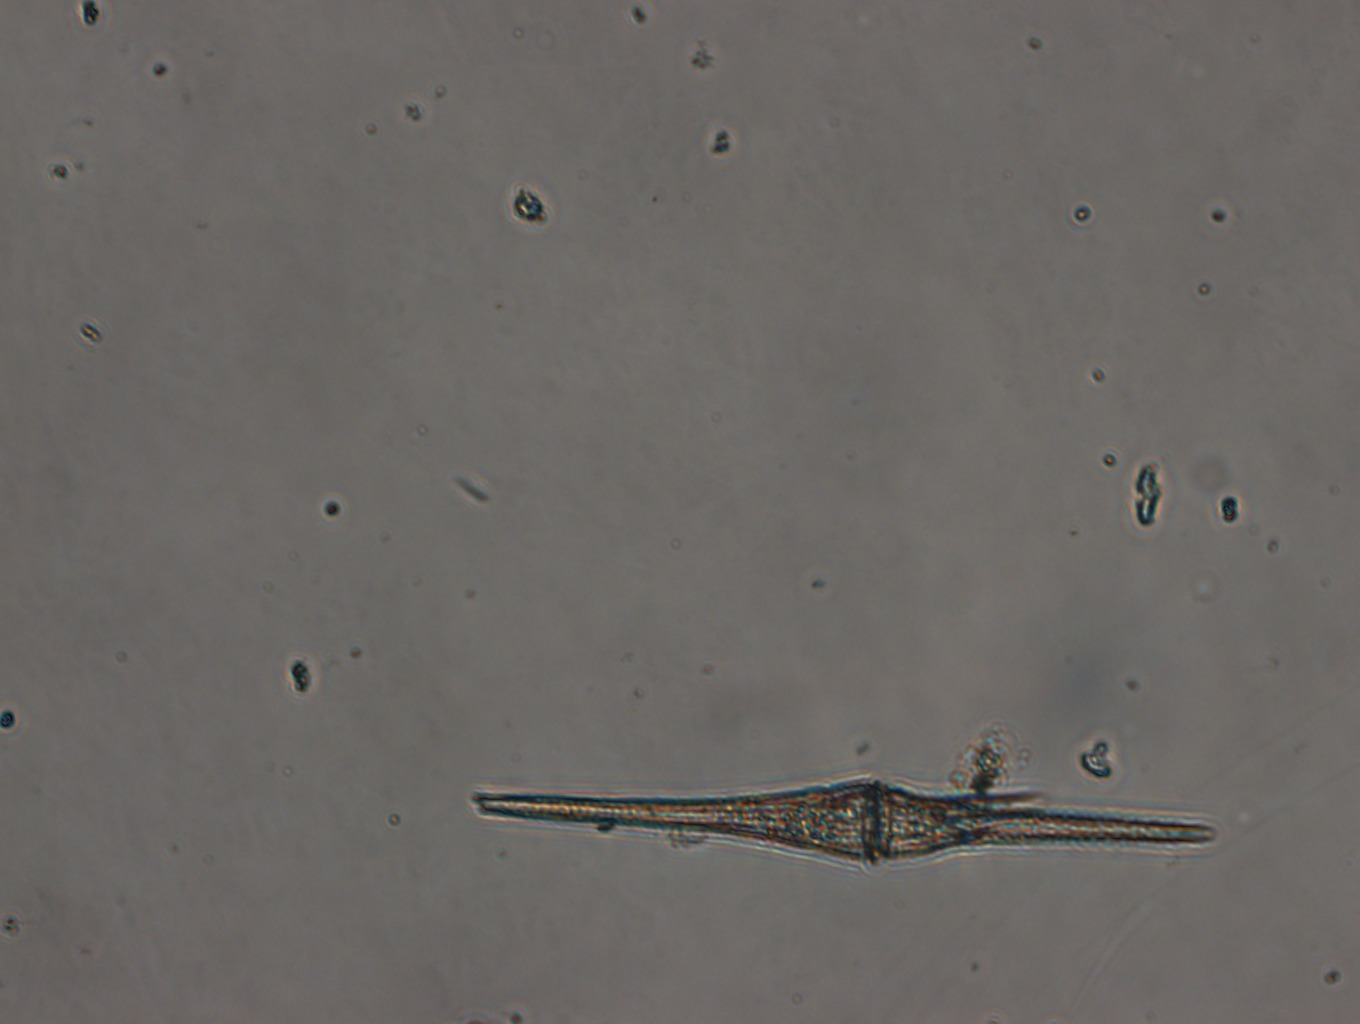ceratium furca: (476, 779, 1218, 865)
